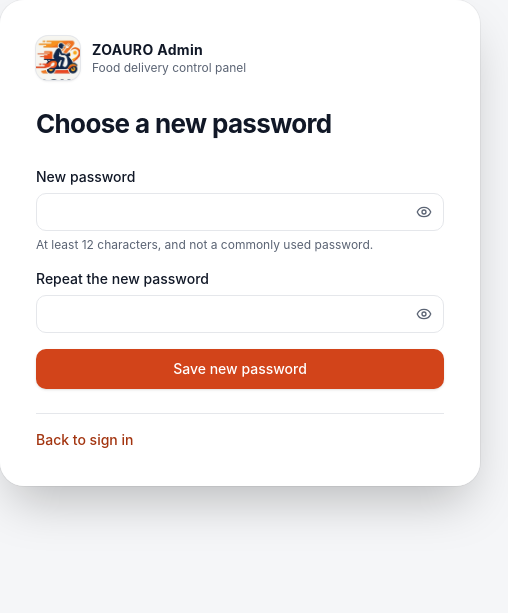
password screens › reset: an expired link says so and offers a new one
Type "blue-kettle-river-9" into the password field labelled "New password" at (240, 212), box x1=36 y1=193 x2=444 y2=231
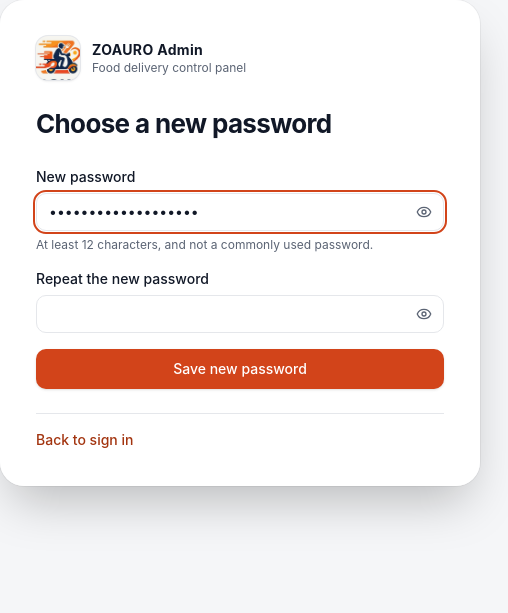
Type "blue-kettle-river-9" into the password field labelled "Repeat the new password" at (240, 314), box x1=36 y1=295 x2=444 y2=333
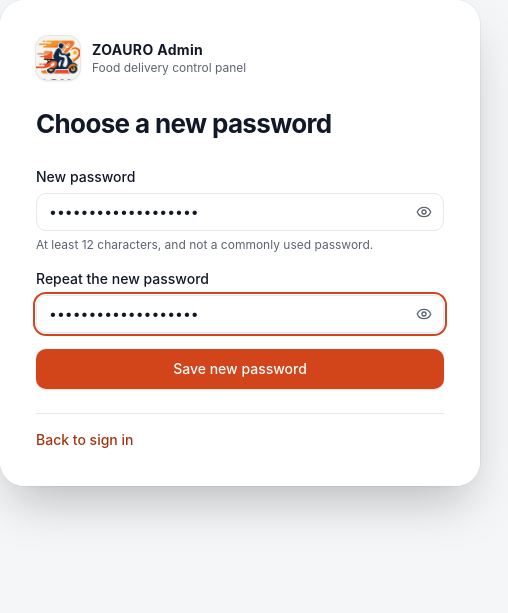
Click the button "Save new password" at (240, 369), box x1=36 y1=349 x2=444 y2=389
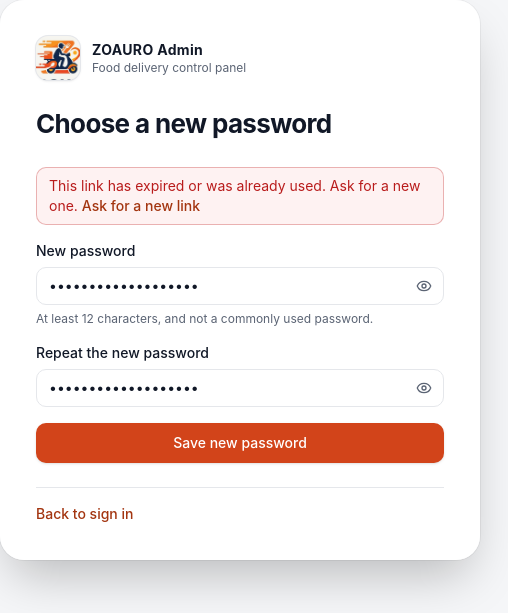
Expected: the text "This link has expired or was already used" is shown, x1=49 y1=177 x2=420 y2=214
